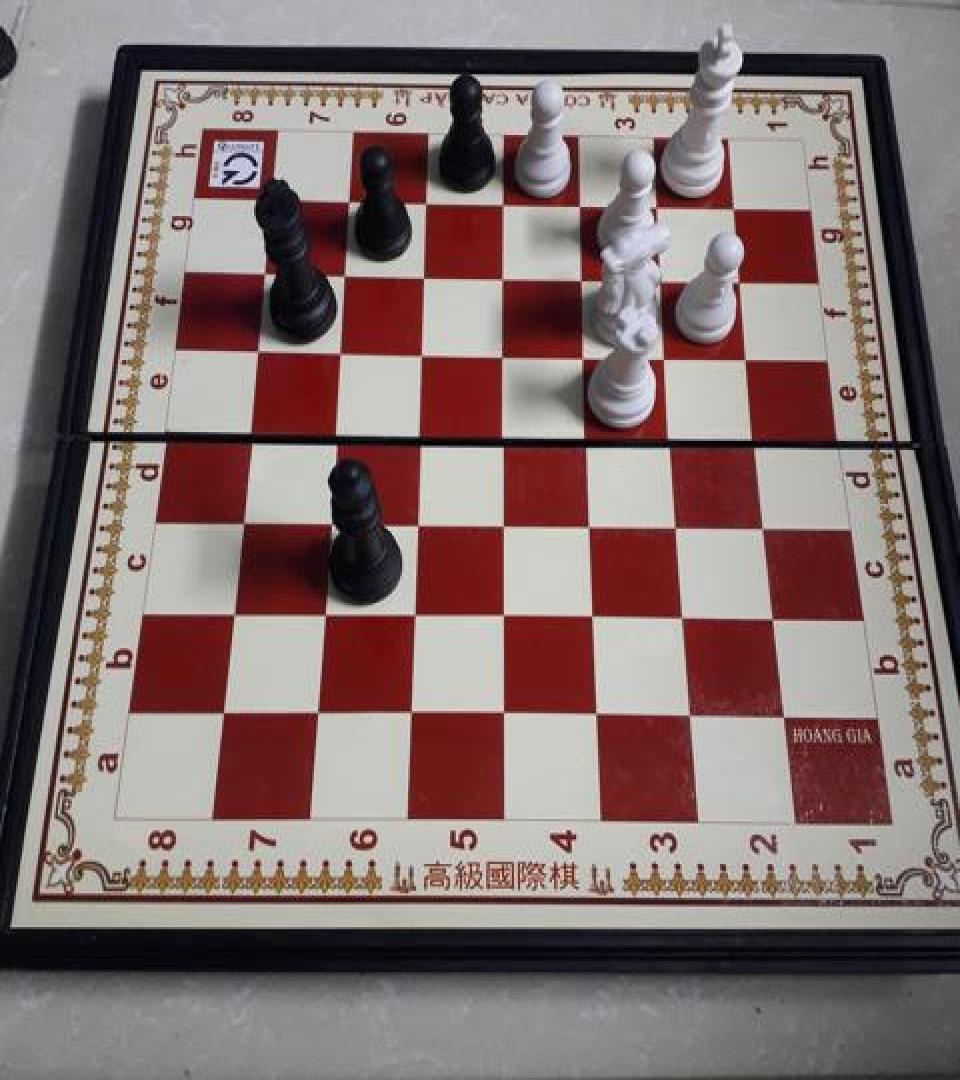xcorner: (677, 696, 709, 733), (770, 697, 802, 734), (209, 692, 241, 728), (303, 693, 335, 729), (397, 694, 429, 730), (491, 695, 523, 731), (584, 695, 616, 731), (218, 592, 250, 628), (309, 593, 341, 629), (400, 594, 432, 630), (490, 595, 522, 631), (581, 596, 613, 632), (670, 598, 702, 634), (760, 598, 792, 634), (227, 500, 259, 536), (315, 500, 347, 536), (403, 502, 435, 538), (490, 503, 522, 539), (577, 504, 609, 540), (664, 505, 696, 541), (751, 506, 783, 542), (236, 413, 268, 449), (321, 414, 353, 450), (406, 415, 438, 451), (490, 416, 522, 452), (574, 418, 606, 454), (658, 418, 690, 454), (742, 420, 774, 456), (244, 331, 276, 367), (326, 332, 358, 368), (408, 334, 440, 370), (490, 335, 522, 371), (572, 336, 604, 372), (653, 338, 685, 374), (734, 338, 766, 374), (251, 254, 283, 290), (331, 256, 363, 292), (410, 258, 442, 294), (490, 259, 522, 295), (569, 260, 601, 296), (648, 261, 680, 297), (727, 263, 759, 299), (258, 182, 290, 218), (335, 184, 367, 220), (490, 187, 522, 223), (567, 188, 599, 224), (643, 190, 675, 226), (720, 191, 752, 227), (413, 186, 445, 221)
